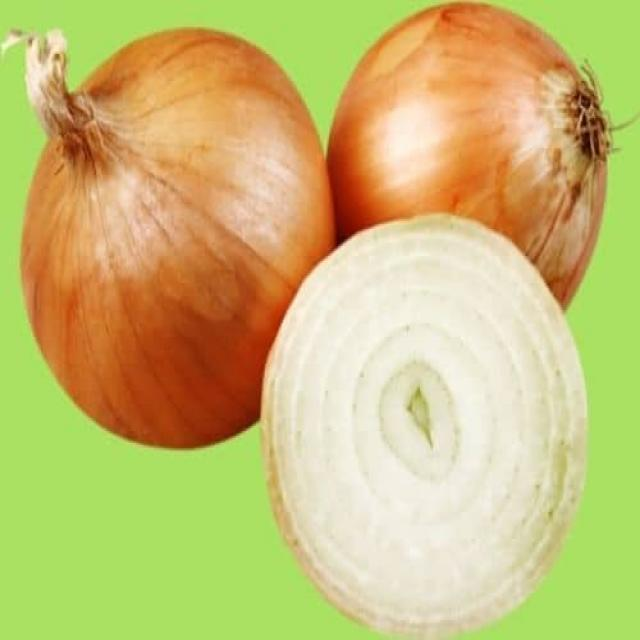Onion: (6, 28, 335, 448), (328, 2, 611, 306)
